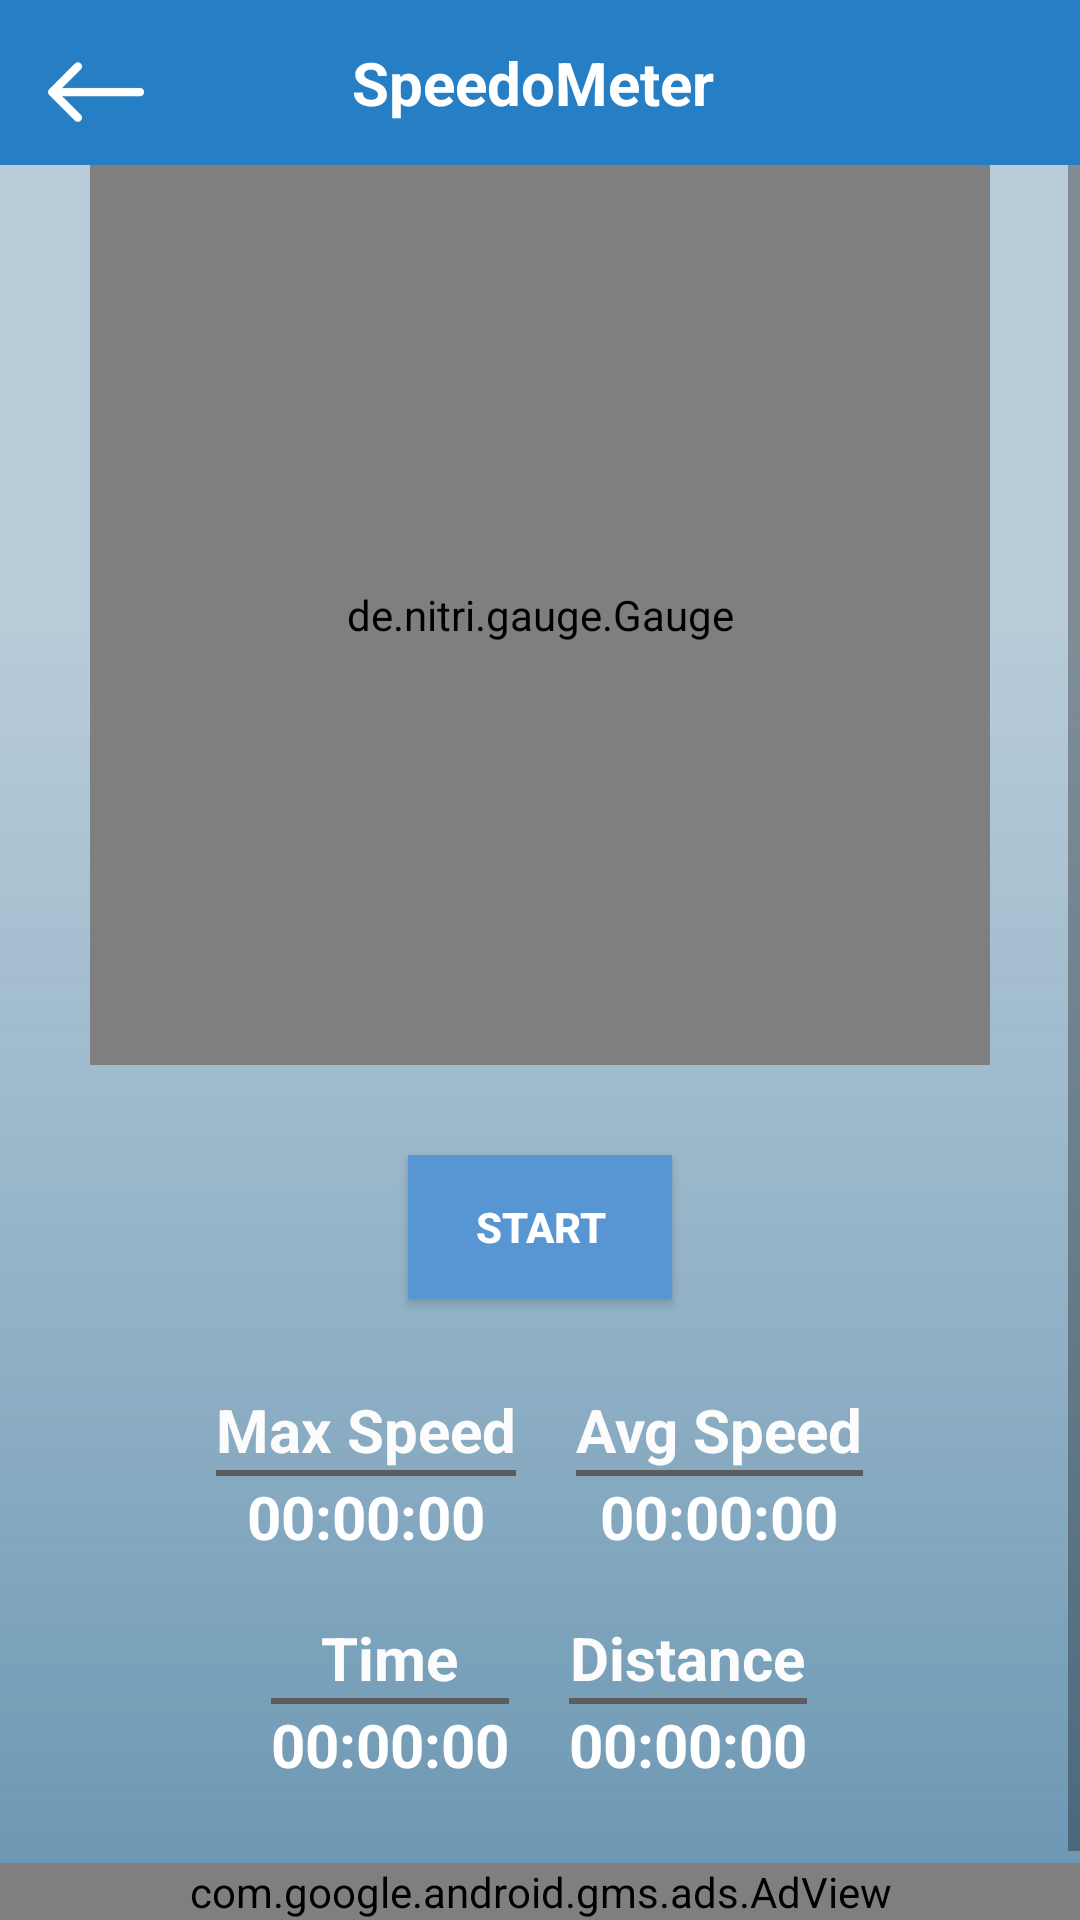

Icons on this 1080×1920 Android screen, each with the point to tap as (x,y):
left arrow: (96,92)
